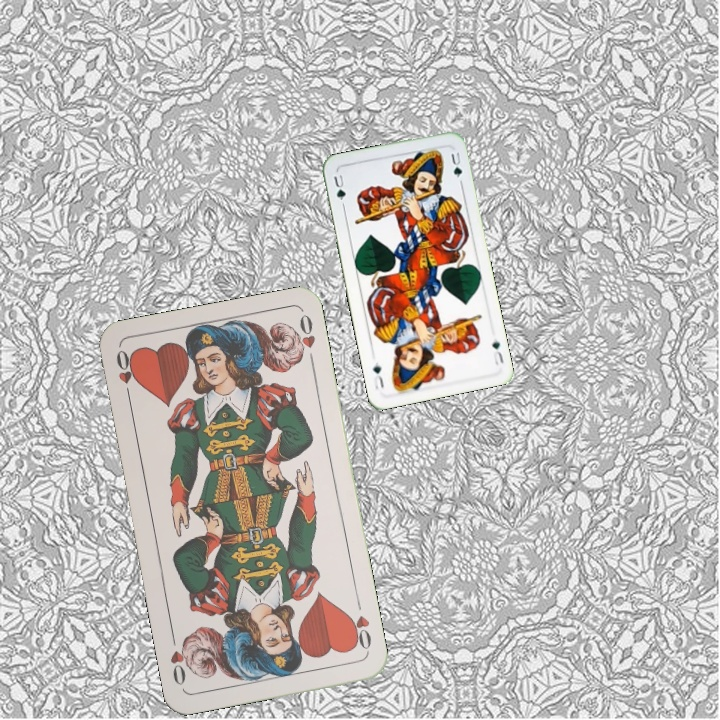GU: (329, 169, 348, 209), (488, 337, 506, 369)
HO: (344, 596, 374, 654), (112, 345, 138, 404)
